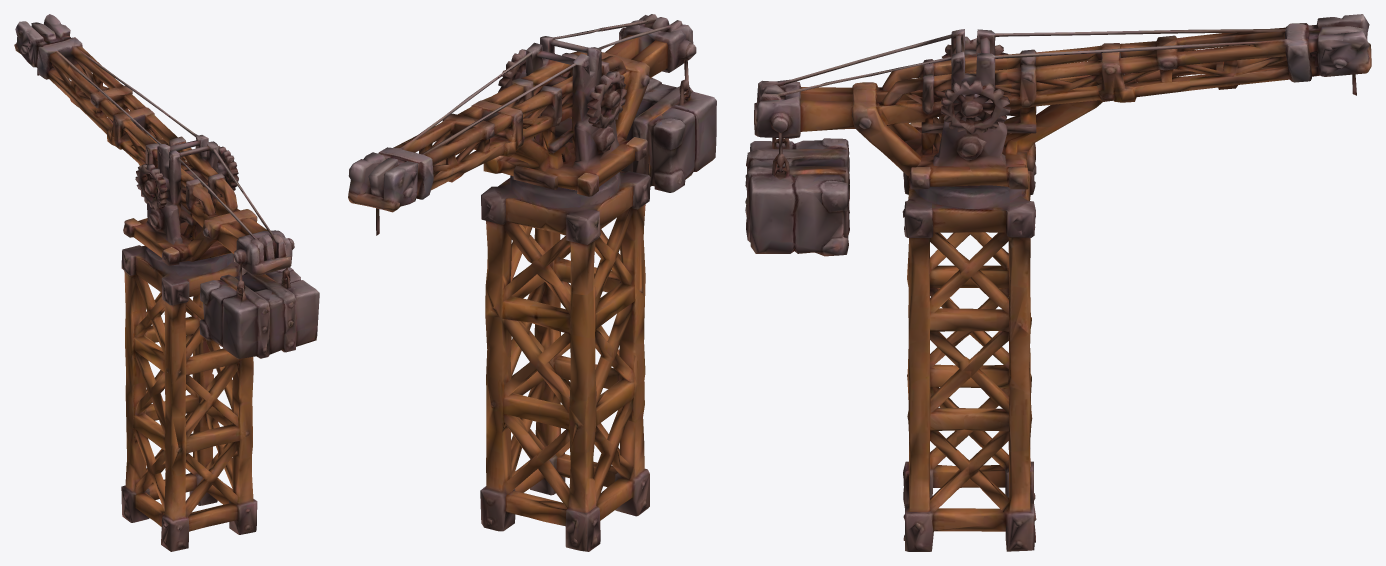
Rendered from crane.glb.
The picture shows the model from 3 angles, left to right: view 1: azimuth 30°, elevation 25°; view 2: azimuth 150°, elevation 25°; view 3: azimuth 270°, elevation 25°; orthographic projection. The views are drawn at different scales.
Parts seen in each view (by area): view 1: tripo_node_1e495645-639a-466f-a500-847c32809ee5; view 2: tripo_node_1e495645-639a-466f-a500-847c32809ee5; view 3: tripo_node_1e495645-639a-466f-a500-847c32809ee5.
Part boxes in pixels (x1,y1,x2,y2): tripo_node_1e495645-639a-466f-a500-847c32809ee5: [14, 14, 319, 551]; tripo_node_1e495645-639a-466f-a500-847c32809ee5: [348, 14, 716, 551]; tripo_node_1e495645-639a-466f-a500-847c32809ee5: [745, 14, 1371, 551].
Bounding box in the file's own units: 0.2493 × 0.9997 × 1.13.
Materials: 1 (1 with a texture image).
